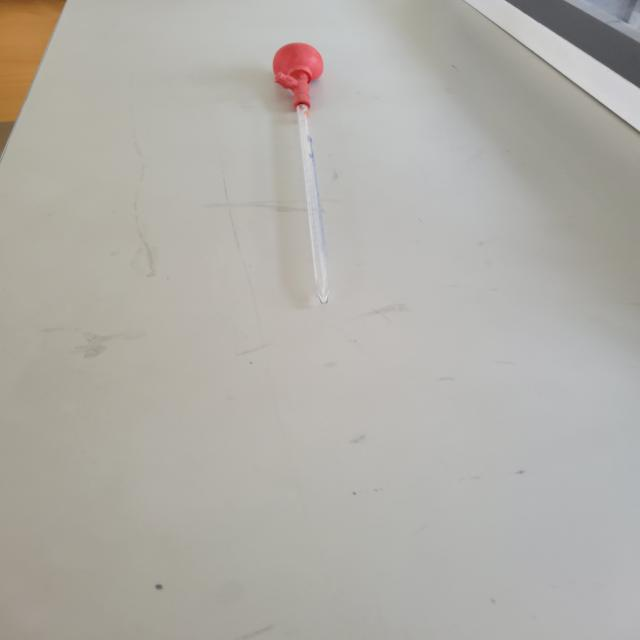Volumetric_Pipet: (233, 19, 396, 327)
